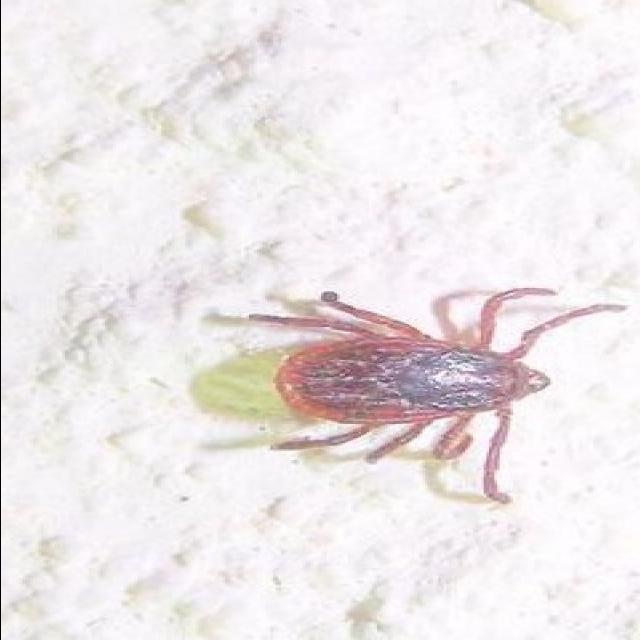Rhipicephalus Sanguineus-F: (227, 286, 627, 505)
